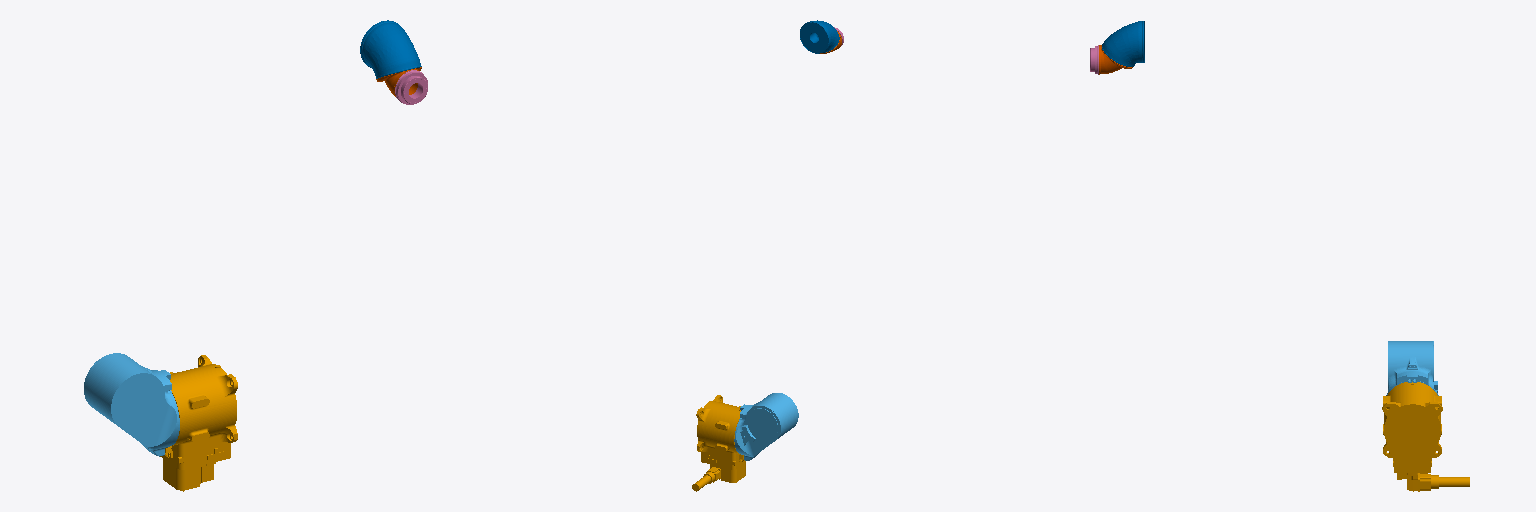
URDF robot description (MPX3500-C10X):
<?xml version="1.0" ?>
<robot name="MPX3500-C10X">
  <link name="base_link">
    <visual>
      <origin xyz="-0.0000 -0.0000 -0.0000" rpy="1.5707963267948966 0.0 -1.5707963267948966"/>
      <geometry>
        <mesh filename="package://MPX3500-C10X/meshes/base_link.stl" scale="0.001 0.001 0.001"/>
      </geometry>
    </visual>
    <collision>
      <origin xyz="-0.0000 -0.0000 -0.0000" rpy="1.5707963267948966 0.0 -1.5707963267948966"/>
      <geometry>
        <mesh filename="package://MPX3500-C10X/meshes/base_link.stl" scale="0.001 0.001 0.001"/>
      </geometry>
    </collision>
  </link>
  <link name="link1">
    <visual>
      <origin xyz="-0.0000 -0.0000 -0.4250" rpy="1.5707963267948966 0.0 -1.5707963267948966"/>
      <geometry>
        <mesh filename="package://MPX3500-C10X/meshes/link1.stl" scale="0.001 0.001 0.001"/>
      </geometry>
    </visual>
    <collision>
      <origin xyz="-0.0000 -0.0000 -0.4250" rpy="1.5707963267948966 0.0 -1.5707963267948966"/>
      <geometry>
        <mesh filename="package://MPX3500-C10X/meshes/link1.stl" scale="0.001 0.001 0.001"/>
      </geometry>
    </collision>
  </link>
  <link name="link2">
    <visual>
      <origin xyz="-0.0000 -0.0000 -0.8000" rpy="1.5707963267948966 0.0 -1.5707963267948966"/>
      <geometry>
        <mesh filename="package://MPX3500-C10X/meshes/link2.stl" scale="0.001 0.001 0.001"/>
      </geometry>
    </visual>
    <collision>
      <origin xyz="-0.0000 -0.0000 -0.8000" rpy="1.5707963267948966 0.0 -1.5707963267948966"/>
      <geometry>
        <mesh filename="package://MPX3500-C10X/meshes/link2.stl" scale="0.001 0.001 0.001"/>
      </geometry>
    </collision>
  </link>
  <link name="link3">
    <visual>
      <origin xyz="-0.0000 -0.0000 -2.1000" rpy="1.5707963267948966 0.0 -1.5707963267948966"/>
      <geometry>
        <mesh filename="package://MPX3500-C10X/meshes/link3.stl" scale="0.001 0.001 0.001"/>
      </geometry>
    </visual>
    <collision>
      <origin xyz="-0.0000 -0.0000 -2.1000" rpy="1.5707963267948966 0.0 -1.5707963267948966"/>
      <geometry>
        <mesh filename="package://MPX3500-C10X/meshes/link3.stl" scale="0.001 0.001 0.001"/>
      </geometry>
    </collision>
  </link>
  <link name="link4">
    <visual>
      <origin xyz="-0.0000 1.4000 -2.1000" rpy="1.5707963267948966 0.0 -1.5707963267948966"/>
      <geometry>
        <mesh filename="package://MPX3500-C10X/meshes/link4.stl" scale="0.001 0.001 0.001"/>
      </geometry>
    </visual>
    <collision>
      <origin xyz="-0.0000 1.4000 -2.1000" rpy="1.5707963267948966 0.0 -1.5707963267948966"/>
      <geometry>
        <mesh filename="package://MPX3500-C10X/meshes/link4.stl" scale="0.001 0.001 0.001"/>
      </geometry>
    </collision>
  </link>
  <link name="link5">
    <visual>
      <origin xyz="-0.0000 1.4000 -2.1000" rpy="1.5707963267948966 0.0 -1.5707963267948966"/>
      <geometry>
        <mesh filename="package://MPX3500-C10X/meshes/link5.stl" scale="0.001 0.001 0.001"/>
      </geometry>
    </visual>
    <collision>
      <origin xyz="-0.0000 1.4000 -2.1000" rpy="1.5707963267948966 0.0 -1.5707963267948966"/>
      <geometry>
        <mesh filename="package://MPX3500-C10X/meshes/link5.stl" scale="0.001 0.001 0.001"/>
      </geometry>
    </collision>
  </link>
  <link name="link6">
    <visual>
      <origin xyz="-0.0000 1.5800 -2.0000" rpy="1.5707963267948966 0.0 -1.5707963267948966"/>
      <geometry>
        <mesh filename="package://MPX3500-C10X/meshes/link6.stl" scale="0.001 0.001 0.001"/>
      </geometry>
    </visual>
    <collision>
      <origin xyz="-0.0000 1.5800 -2.0000" rpy="1.5707963267948966 0.0 -1.5707963267948966"/>
      <geometry>
        <mesh filename="package://MPX3500-C10X/meshes/link6.stl" scale="0.001 0.001 0.001"/>
      </geometry>
    </collision>
  </link>
  <link name="tool0">
  </link>
  <joint name="joint1" type="revolute">
    <parent link="base_link"/>
    <child link="link1"/>
    <origin xyz="0.0000 0.0000 0.4250" rpy="0.0000 0.0000 0.0000"/>
    <axis xyz="0.000000000000000 0.000000000000000 1.000000000000000"/>
    <limit lower="-2.61799" upper="2.61799" effort="100.0" velocity="1.5"/>
  </joint>
  <joint name="joint2" type="revolute">
    <parent link="link1"/>
    <child link="link2"/>
    <origin xyz="0.0000 0.0000 0.3750" rpy="0.0000 0.0000 0.0000"/>
    <axis xyz="1.000000000000000 0.000000000000000 0.000000000000000"/>
    <limit lower="-1.13446" upper="2.44346" effort="100.0" velocity="1.5"/>
  </joint>
  <joint name="joint3" type="revolute">
    <parent link="link2"/>
    <child link="link3"/>
    <origin xyz="0.0000 0.0000 1.3000" rpy="0.0000 0.0000 0.0000"/>
    <axis xyz="-1.000000000000000 0.000000000000000 0.000000000000000"/>
    <limit lower="-1.13446" upper="1.57080" effort="100.0" velocity="1.5"/>
  </joint>
  <joint name="joint4" type="revolute">
    <parent link="link3"/>
    <child link="link4"/>
    <origin xyz="0.0000 -1.4000 0.0000" rpy="0.0000 0.0000 0.0000"/>
    <axis xyz="0.000000000000000 -1.000000000000000 0.000000000000000"/>
    <limit lower="-12.56637" upper="12.56637" effort="100.0" velocity="1.5"/>
  </joint>
  <joint name="joint5" type="revolute">
    <parent link="link4"/>
    <child link="link5"/>
    <origin xyz="0.0000 0.0000 0.0000" rpy="0.0000 0.0000 0.0000"/>
    <axis xyz="0.000000000000000 -0.500000000000000 -0.866025404000000"/>
    <limit lower="-12.56637" upper="12.56637" effort="100.0" velocity="1.5"/>
  </joint>
  <joint name="joint6" type="revolute">
    <parent link="link5"/>
    <child link="link6"/>
    <origin xyz="0.0000 -0.1800 -0.1000" rpy="0.0000 0.0000 0.0000"/>
    <axis xyz="0.000000000000000 -1.000000000000000 0.000000000000000"/>
    <limit lower="-12.56637" upper="12.56637" effort="100.0" velocity="1.5"/>
  </joint>
  <joint name="joint_tool0" type="fixed">
    <parent link="link6"/>
    <child link="tool0"/>
    <origin xyz="0.0000 0.0000 0.0000" rpy="0.0000 0.0000 0.0000"/>
  </joint>
</robot>

--- What the picture shows (computed from the rendered views, not written in the file) ---
Views: 3 orthographic renders of the robot side by side, from view 1: azimuth 30°, elevation 25°; view 2: azimuth 150°, elevation 25°; view 3: azimuth 270°, elevation 25°.
Robot: MPX3500-C10X — 8 links, 7 joints (6 revolute, 1 fixed); root link base_link; default pose: every joint at zero.
Links seen in each view (by area): view 1: base_link, link1, link4, link6; view 2: base_link, link1, link4; view 3: base_link, link1, link4.
Boxes of the visible links, x1,y1,x2,y2 form: base_link: (160, 355, 237, 491); link1: (84, 353, 179, 456); link4: (360, 20, 421, 78); link6: (395, 70, 427, 104); base_link: (692, 395, 745, 491); link1: (734, 393, 798, 460); link4: (800, 20, 839, 53); base_link: (1382, 382, 1469, 491); link1: (1386, 341, 1438, 395); link4: (1102, 21, 1144, 66).
Size in the robot's own frame: 0.6814 by 1.86 by 2.56 metres.
Meshes: 7 distinct files referenced, 5 mesh visuals loaded (5 binary STL); not drawn: 2 (reference not matched to a file when rendering).